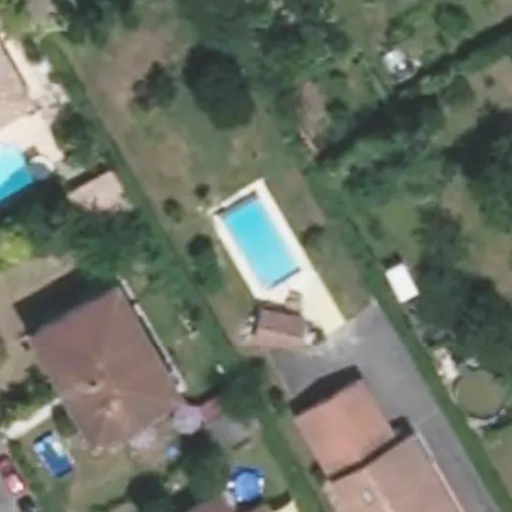pool: (210, 212, 299, 270)
